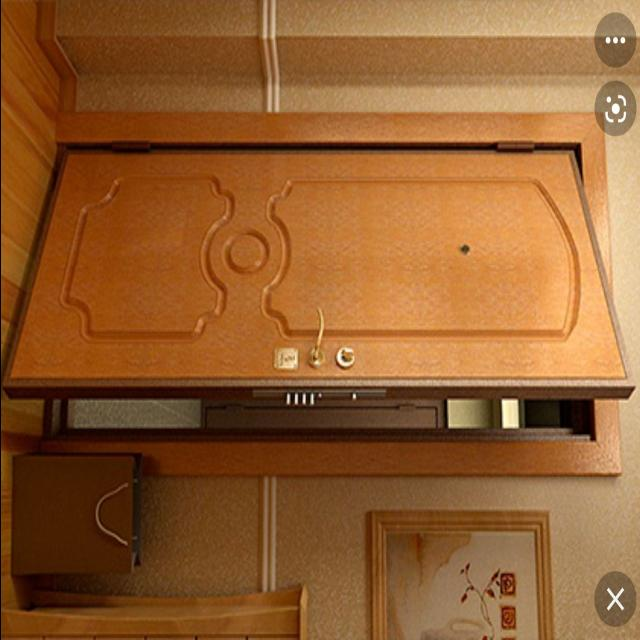open: (39, 130, 624, 468)
